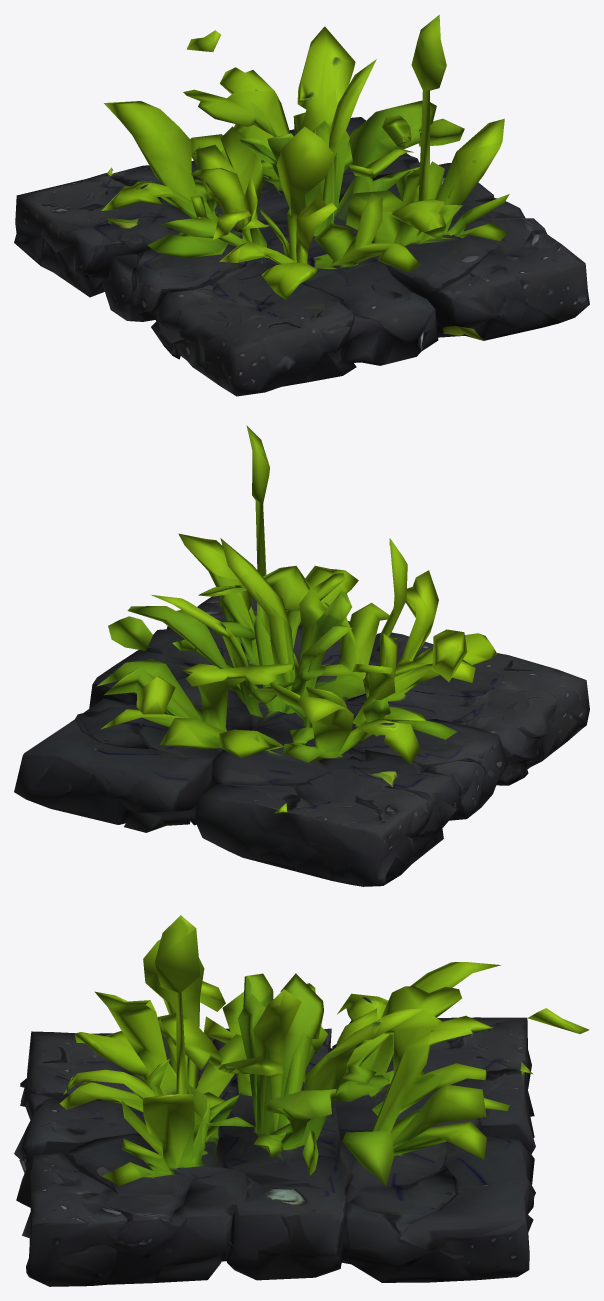
The model's file is gnd_urban_weeds.fbx.
3 views of the same model, one above another, from view 1: azimuth 30°, elevation 25°; view 2: azimuth 150°, elevation 25°; view 3: azimuth 270°, elevation 25° (orthographic). The views are drawn at different scales.
Parts seen in each view (by area): view 1: gnd_urban_weeds_LOD0; view 2: gnd_urban_weeds_LOD0; view 3: gnd_urban_weeds_LOD0.
Boxes of the visible parts, x1,y1,x2,y2 form: gnd_urban_weeds_LOD0: (14, 14, 589, 396); gnd_urban_weeds_LOD0: (14, 425, 589, 886); gnd_urban_weeds_LOD0: (14, 915, 589, 1286).
Size of what is drawn, in the model's own units: 0.823 by 0.5885 by 0.943.
